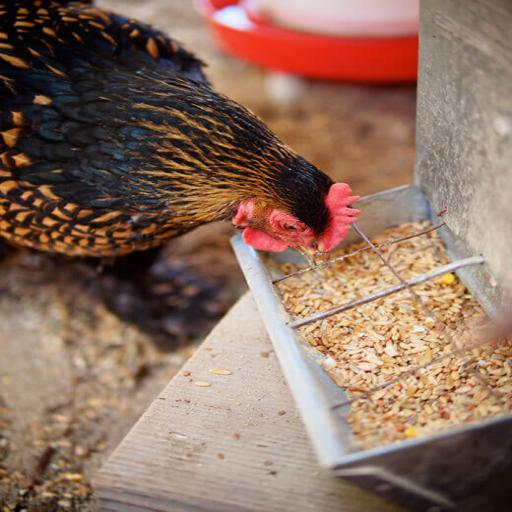healthy: (224, 131, 301, 247)
